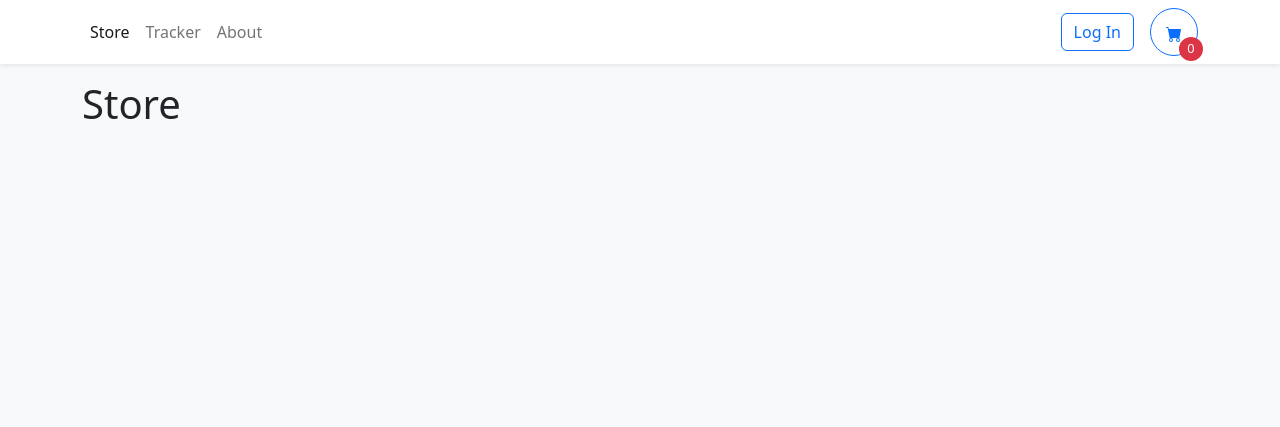
it: Auth Form › show Auth form after click 'Log In'
Click the button with test id "btn-log-in-out". click: [1097, 32]
box: x1=1061 y1=13 x2=1134 y2=51
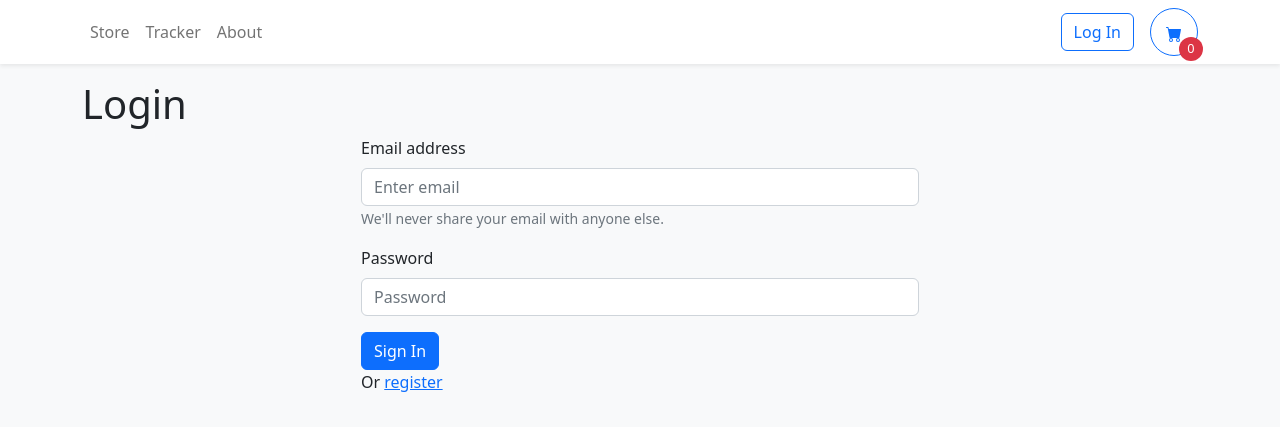
Result: the form with test id "auth-form" is shown at x1=361 y1=136 x2=919 y2=410
